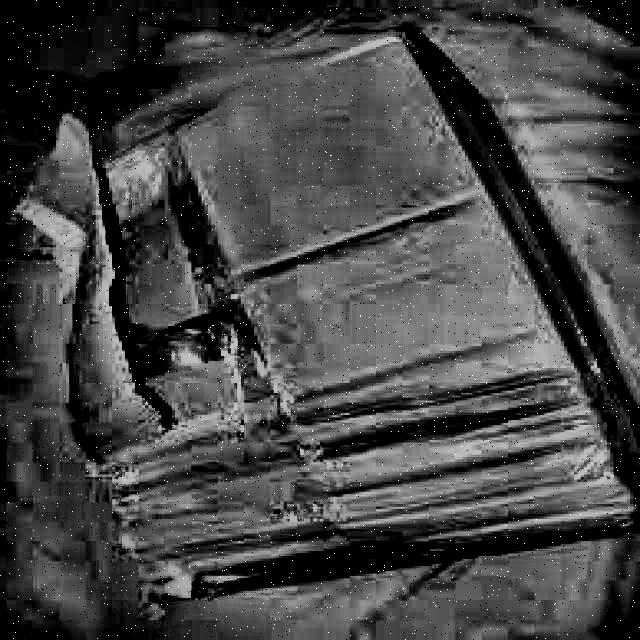box: (0, 30, 640, 566)
hole: (82, 151, 257, 431)
